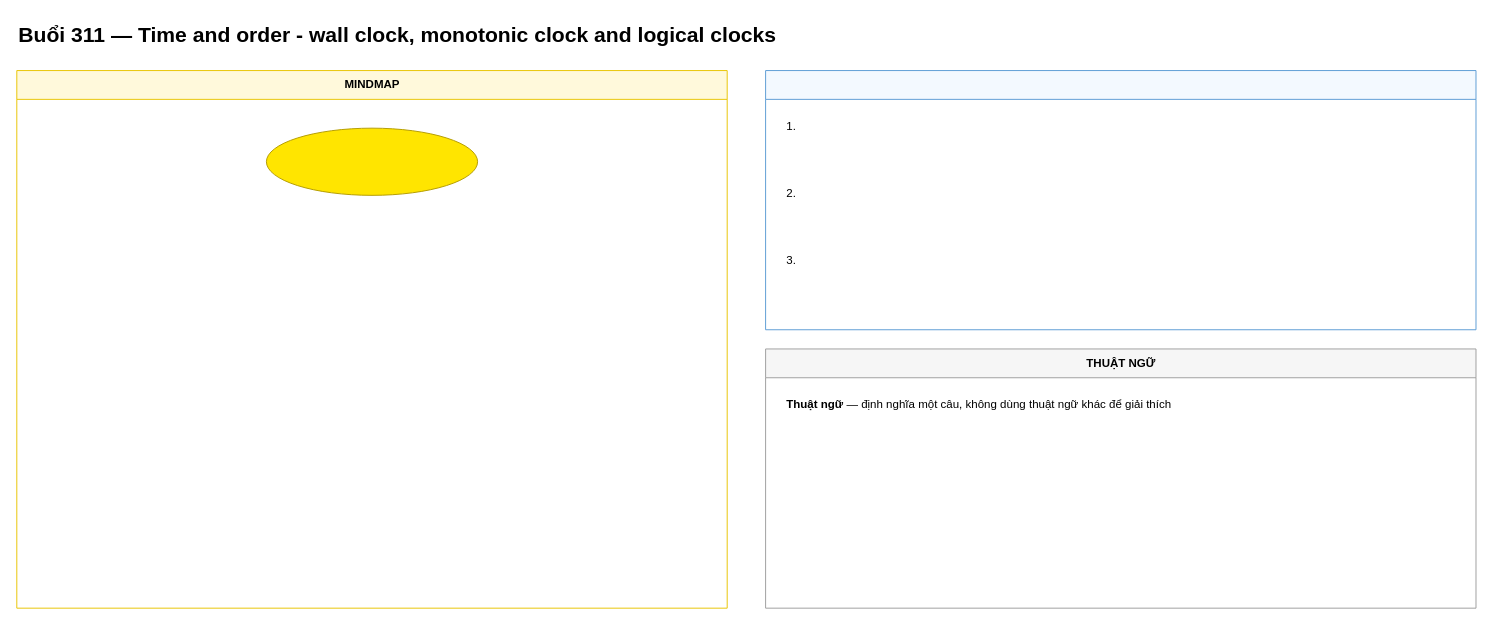
Image size: 1493x625. Some labels were removed from this diagram. The box of each missing label's shape, as (x1, y1, x2, y2) in pixels:
KEY TAKEAWAY — ba điều phải nhớ: (765, 70, 1476, 330)
Time and order - wall clock, monotonic clock and logical clocks: (265, 127, 478, 195)
